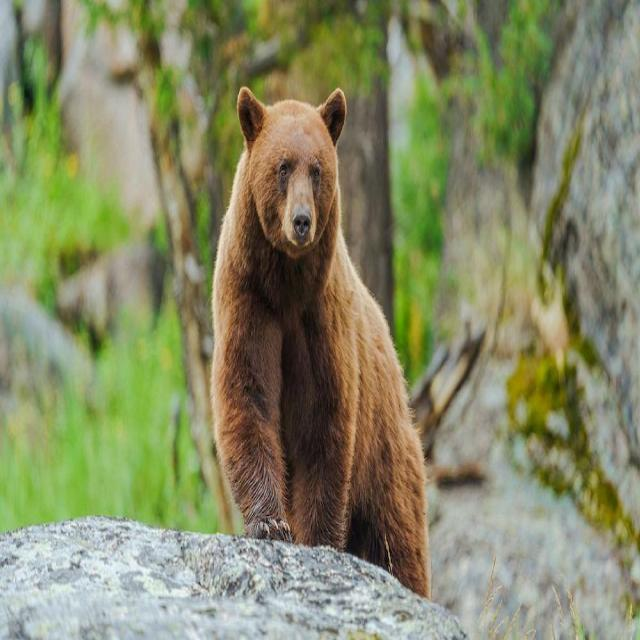Bear: (210, 88, 431, 599)
